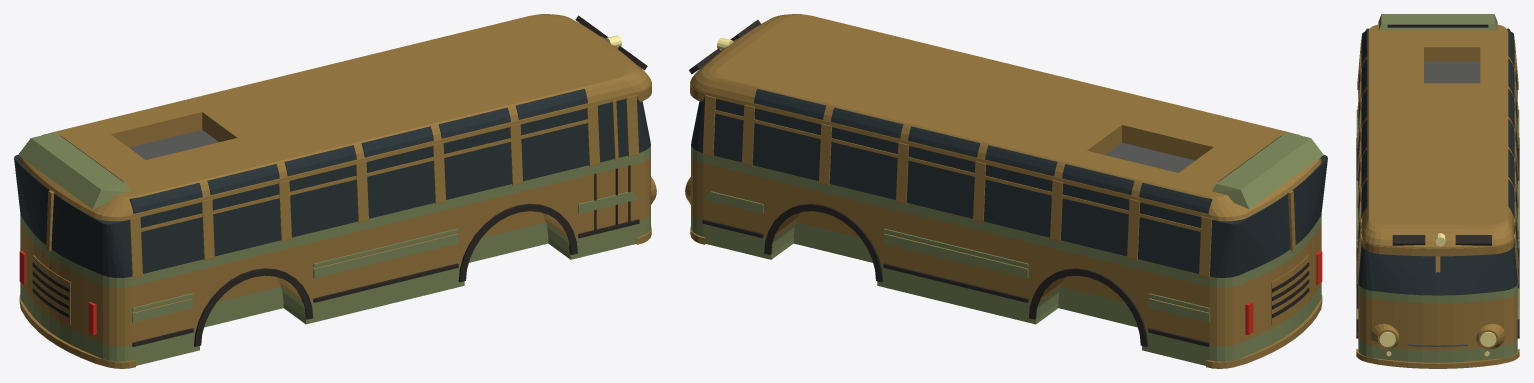
File: base_bus.glb
The picture shows the model from 3 angles, left to right: view 1: azimuth 30°, elevation 25°; view 2: azimuth 150°, elevation 25°; view 3: azimuth 270°, elevation 25°; orthographic projection. The views are drawn at different scales.
Visible parts, largest first — view 1: base_bus; view 2: base_bus; view 3: base_bus.
Boxes of the visible parts, x1,y1,x2,y2 form: base_bus: [14, 14, 656, 368]; base_bus: [685, 14, 1327, 368]; base_bus: [1356, 14, 1519, 368].
Bounding box in the file's own units: 8.5 × 2.4 × 2.6.
